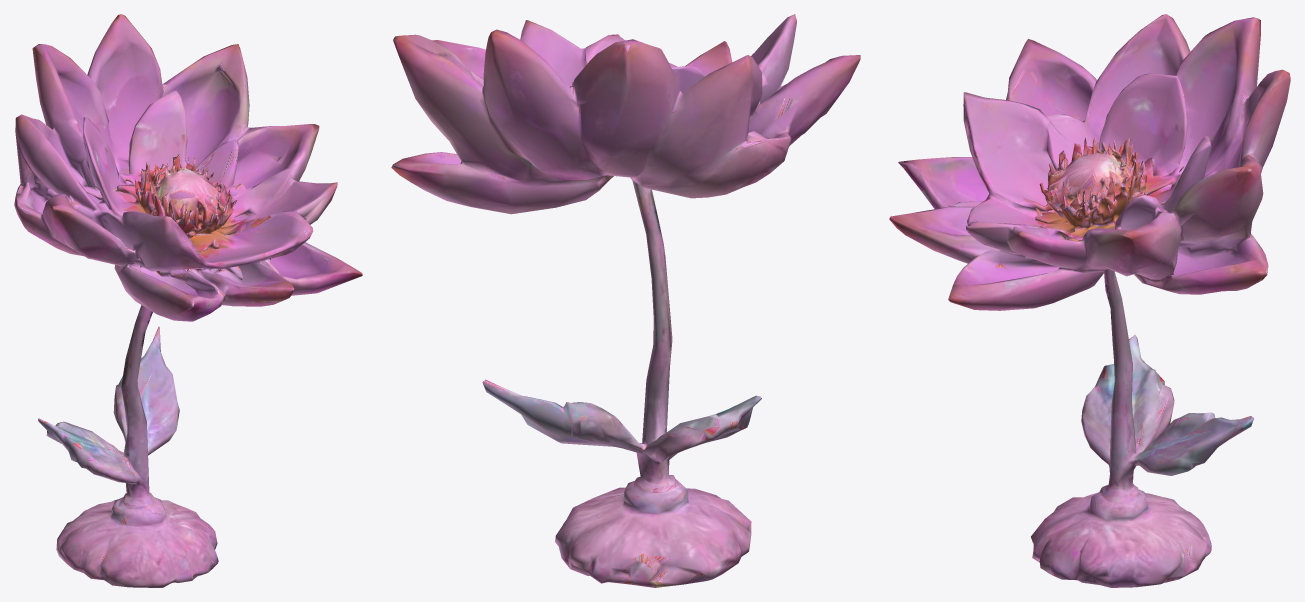
Rendered from crystalflower.glb.
3 renders of one model, left to right at view 1: azimuth 30°, elevation 25°; view 2: azimuth 150°, elevation 25°; view 3: azimuth 270°, elevation 25°, orthographic. The views are drawn at different scales.
Bounding box in the file's own units: 1.37 × 1.99 × 1.4.
1 material, 1 textured.
